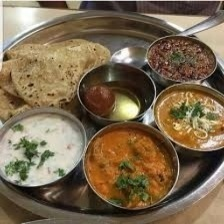roti: (0, 39, 109, 114)
